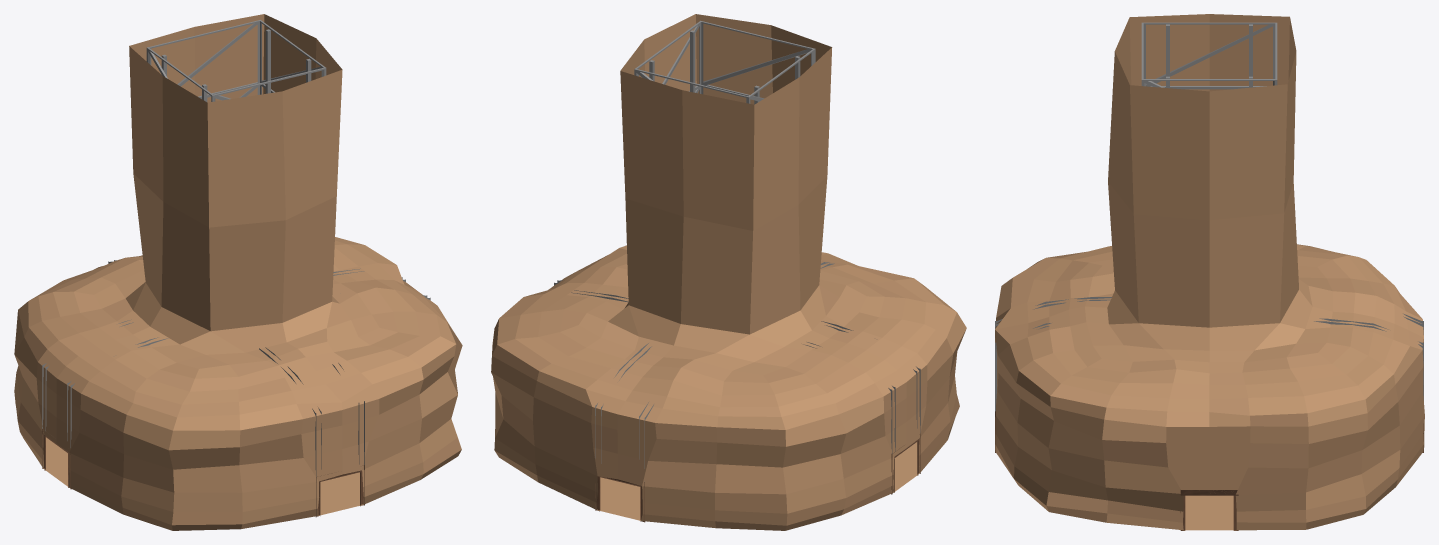
The model's file is SM_ElevatorRoom.fbx.
3 views of the same model, side by side, from view 1: azimuth 30°, elevation 25°; view 2: azimuth 150°, elevation 25°; view 3: azimuth 270°, elevation 25° (orthographic). The views are drawn at different scales.
Visible parts, largest first — view 1: Cave, Girders, Supports, Beams; view 2: Cave, Girders, Supports, Beams; view 3: Cave, Girders, Supports, Support x.002.
Part boxes in pixels (<box>): Cave: <box>14,14,462,530</box>; Girders: <box>146,20,326,101</box>; Supports: <box>42,260,430,476</box>; Beams: <box>161,29,311,101</box>; Cave: <box>491,14,966,530</box>; Girders: <box>634,20,815,103</box>; Supports: <box>554,262,920,481</box>; Beams: <box>649,30,800,104</box>; Cave: <box>995,14,1424,530</box>; Girders: <box>1141,22,1277,89</box>; Supports: <box>995,297,1423,411</box>; Support x.002: <box>1180,490,1238,530</box>.
Size of the model in its own units: 3026 by 3021 by 3007.
